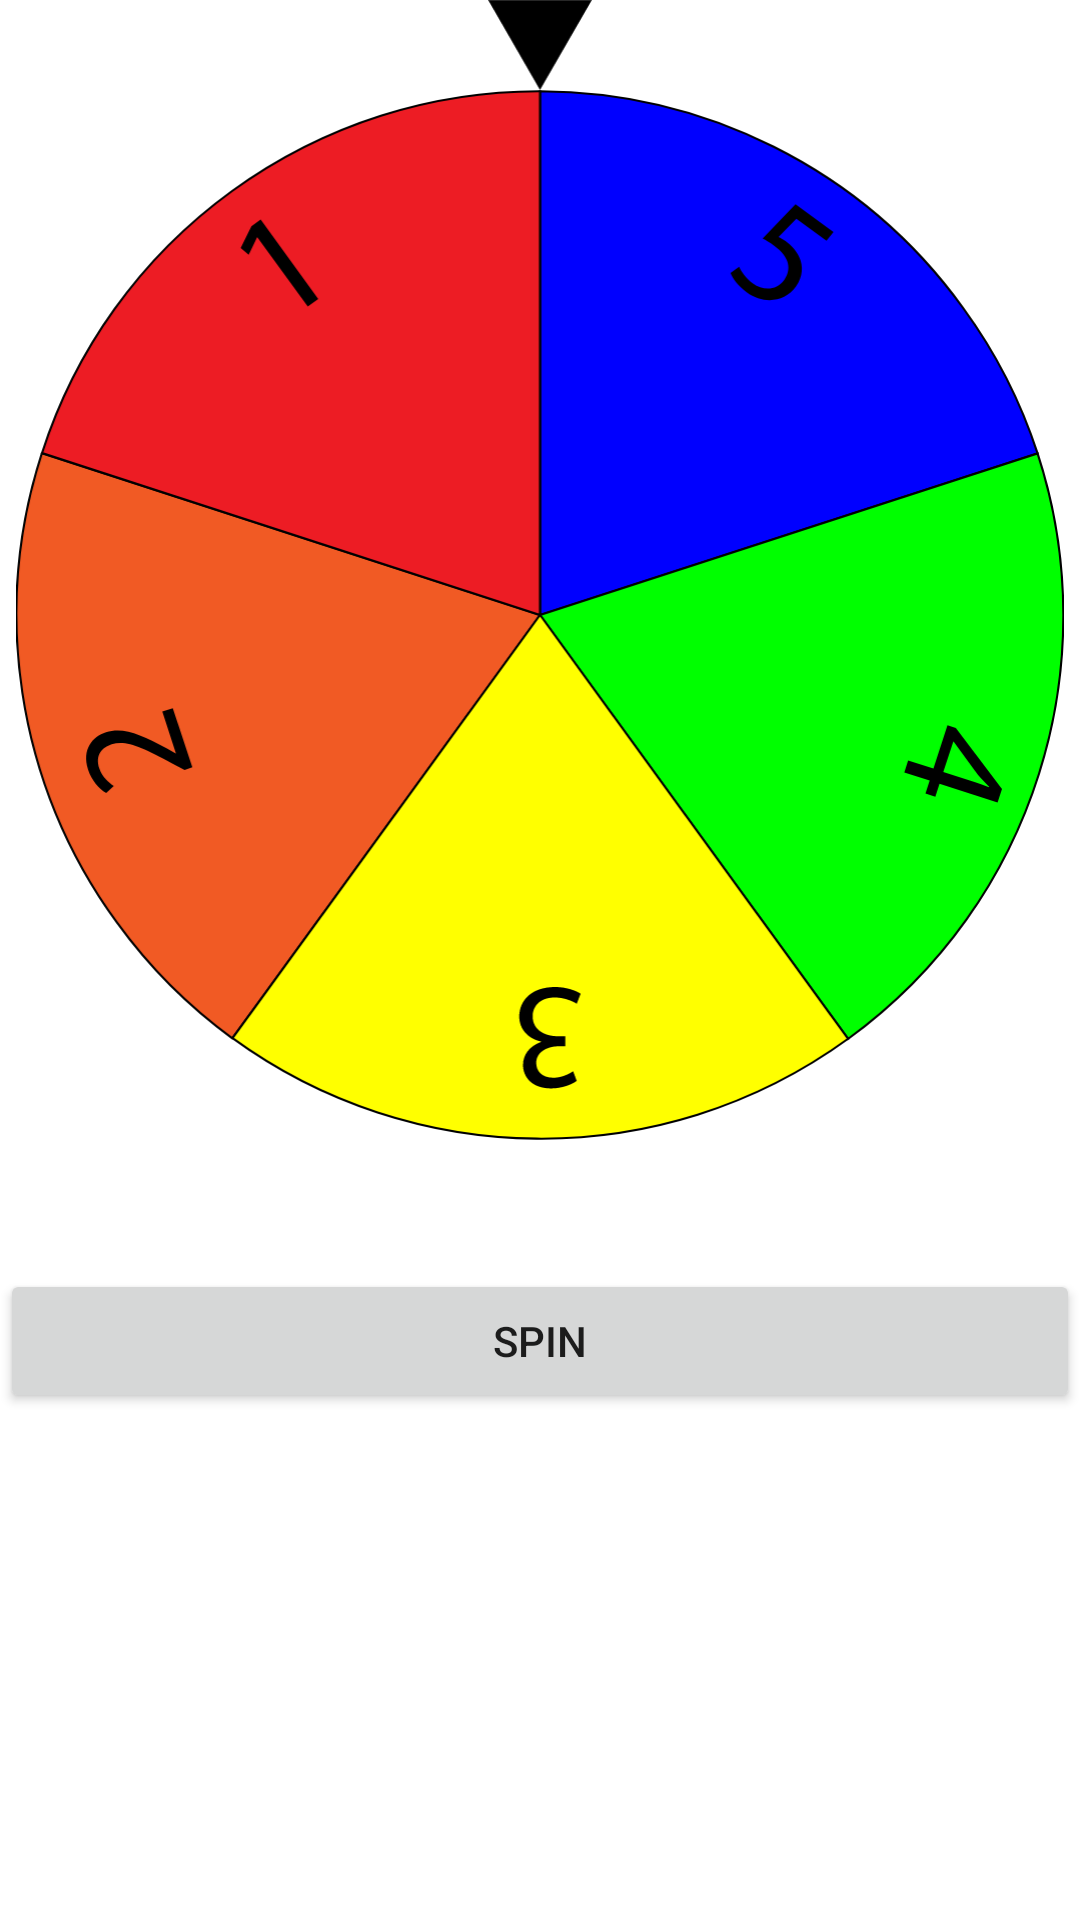

Icon bounding boxes for this 1080w x 1920h phone screenshot, format Rect(x1, y1, x2, y2):
arrow: Rect(488, 0, 592, 90)
